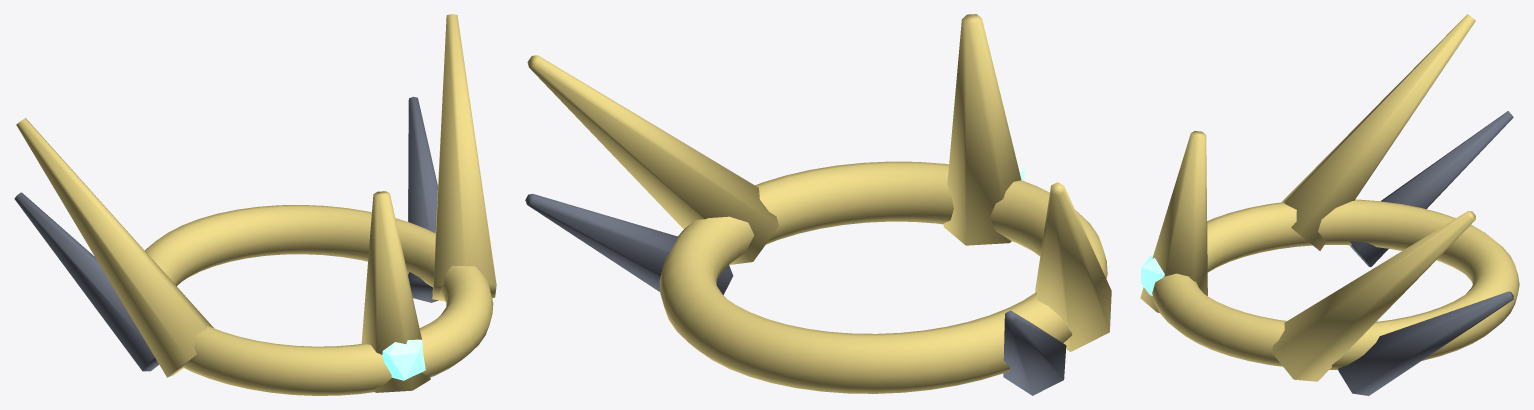
Rendered from elven_helm.glb.
The picture shows the model from 3 angles, left to right: view 1: azimuth 30°, elevation 25°; view 2: azimuth 150°, elevation 25°; view 3: azimuth 270°, elevation 25°; orthographic projection. The views are drawn at different scales.
Parts seen in each view (by area): view 1: Torus, HelmWing1_-1, HelmWing1_1, BrowCrest, HelmWing2_-1, HelmWing2_1, Icosphere; view 2: Torus, HelmWing1_1, BrowCrest, HelmWing1_-1, HelmWing2_1, HelmWing2_-1; view 3: Torus, HelmWing1_1, HelmWing1_-1, BrowCrest, HelmWing2_1, HelmWing2_-1, Icosphere.
Part boxes in pixels (x1,y1,x2,y2): Torus: (145,205,493,395); HelmWing1_-1: (16,118,213,377); HelmWing1_1: (432,14,496,301); BrowCrest: (361,191,430,392); HelmWing2_-1: (14,192,158,371); HelmWing2_1: (407,96,438,302); Icosphere: (382,339,425,380); Torus: (659,161,1107,393); HelmWing1_1: (527,55,778,264); BrowCrest: (943,14,1021,245); HelmWing1_-1: (1035,182,1111,351); HelmWing2_1: (525,193,733,294); HelmWing2_-1: (1003,310,1066,395); Torus: (1152,199,1519,369); HelmWing1_1: (1272,211,1475,381); HelmWing1_-1: (1282,14,1475,250); BrowCrest: (1140,131,1207,312); HelmWing2_1: (1338,291,1513,395); HelmWing2_-1: (1350,111,1513,266); Icosphere: (1141,255,1164,295).
Size of the model in its own units: 0.4912 by 0.2473 by 0.3887.
